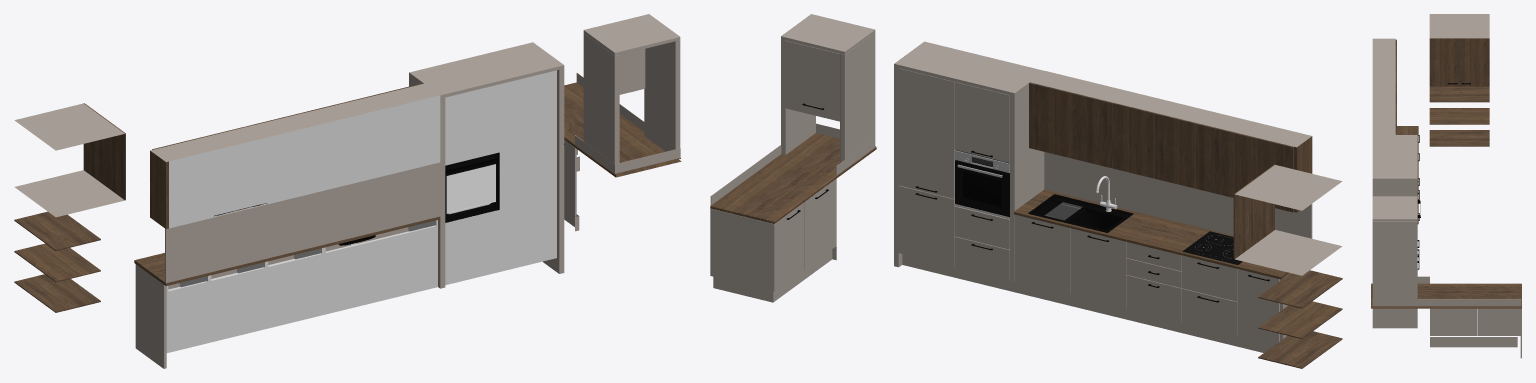
File: cuisine.glb
3 renders of one model, left to right at view 1: azimuth 30°, elevation 25°; view 2: azimuth 150°, elevation 25°; view 3: azimuth 270°, elevation 25°, orthographic. The views are drawn at different scales.
Visible parts, largest first — view 1: Kitchen_Full-Kitchen_Set_01.001, integtegration renfoncement, Kitchen_Full-Kitchen_Set_01.011, Kitchen_Full-Kitchen_Set_01.004, Kitchen_Full-Kitchen_Set_01.002; view 2: Kitchen_Full-Kitchen_Set_01.001, integtegration renfoncement, Kitchen_Full-Kitchen_Set_01.011, Kitchen_Full-Kitchen_Set_01.004, Kitchen_Full-Kitchen_Set_01.005, Kitchen_Full-Kitchen_Set_01.002, Kitchen_Full-Kitchen_Set_01.003; view 3: Kitchen_Full-Kitchen_Set_01.001, integtegration renfoncement, Kitchen_Full-Kitchen_Set_01.011, Kitchen_Full-Kitchen_Set_01.002.
Part boxes in pixels (x1,y1,x2,y2): Kitchen_Full-Kitchen_Set_01.001: (134, 42, 681, 368); integtegration renfoncement: (14, 103, 125, 312); Kitchen_Full-Kitchen_Set_01.011: (583, 14, 680, 163); Kitchen_Full-Kitchen_Set_01.004: (445, 152, 499, 222); Kitchen_Full-Kitchen_Set_01.002: (575, 73, 680, 173); Kitchen_Full-Kitchen_Set_01.001: (710, 40, 1312, 352); integtegration renfoncement: (1233, 164, 1342, 368); Kitchen_Full-Kitchen_Set_01.011: (781, 14, 875, 163); Kitchen_Full-Kitchen_Set_01.004: (954, 150, 1009, 219); Kitchen_Full-Kitchen_Set_01.005: (1028, 194, 1133, 232); Kitchen_Full-Kitchen_Set_01.002: (710, 123, 875, 205); Kitchen_Full-Kitchen_Set_01.003: (1182, 231, 1242, 264); Kitchen_Full-Kitchen_Set_01.001: (1371, 38, 1521, 358); integtegration renfoncement: (1429, 14, 1489, 146); Kitchen_Full-Kitchen_Set_01.011: (1372, 196, 1417, 306); Kitchen_Full-Kitchen_Set_01.002: (1372, 276, 1521, 306).
Size of the model in its own units: 6.35 by 2.16 by 1.97.
31 materials, 3 textured.
